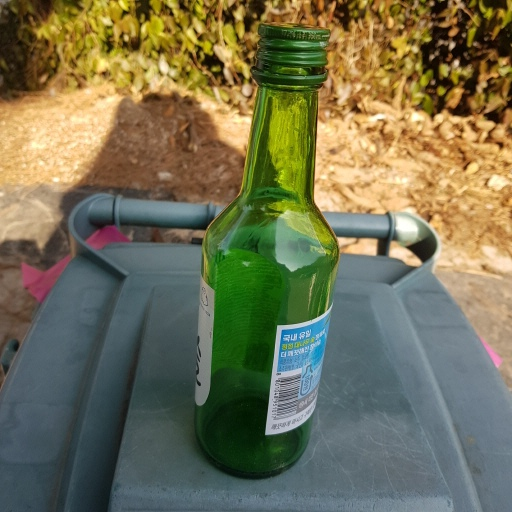Glass_0: (193, 23, 341, 479)
